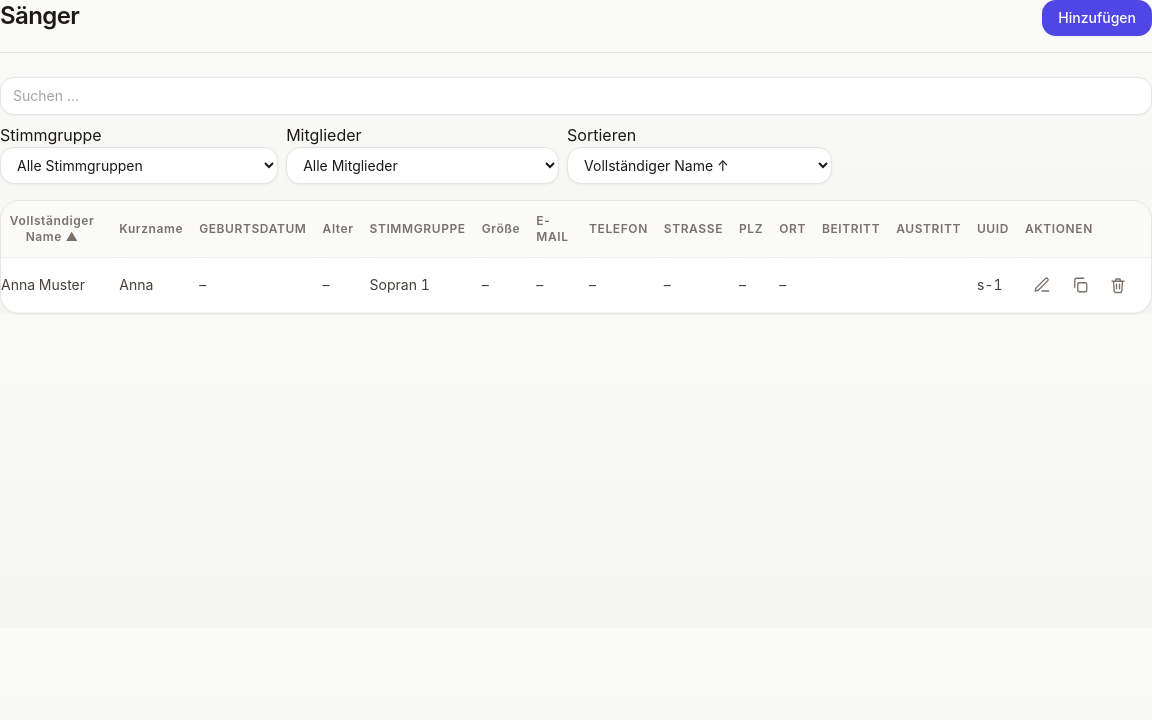
Test: SingersPage mutations › edits a singer via dialog
This screenshot has width=1152, height=720.
Expected: the text "Anna Muster" is shown, 1,258 -> 119,312
Step 1. Click the button named "Bearbeiten" → (1042, 285), box 1025,268 -> 1059,302
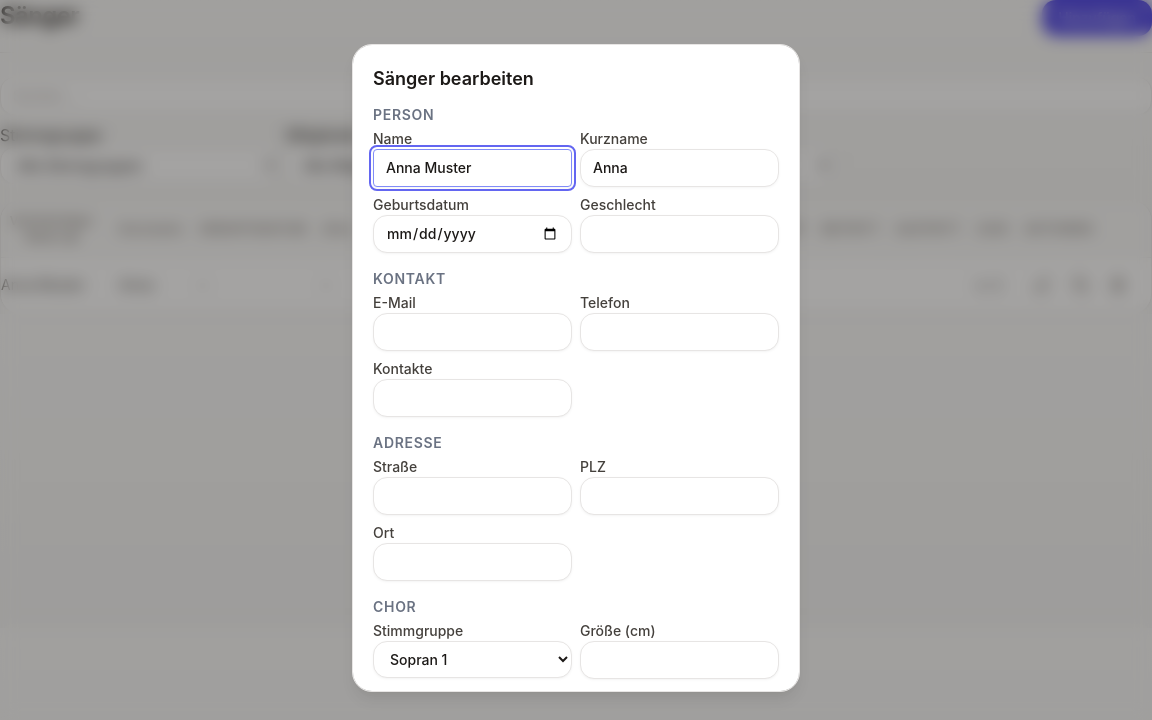
Expected: the field labelled "Name" holds "Anna Muster", 373,149 -> 572,187
Step 2. Replace the text in the field labelled "Kurzname" with "Anni" → (680, 168), box 580,149 -> 779,187
(page scrolled)
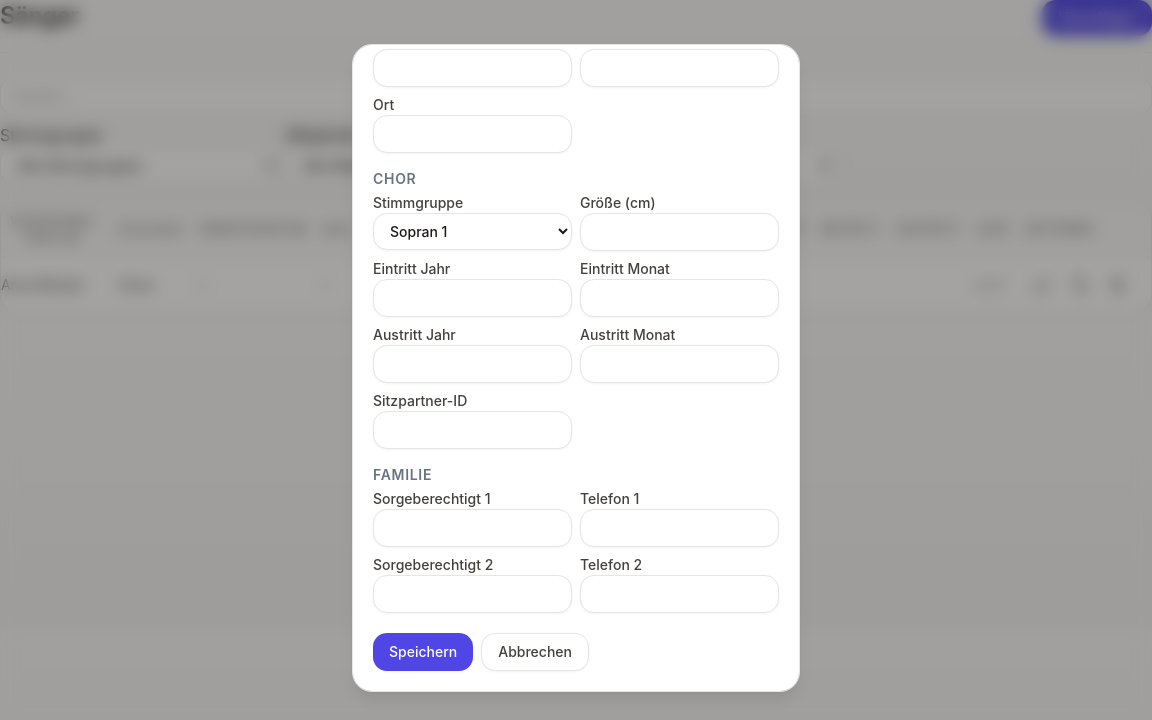
Step 3. Click the button "Speichern" → (423, 652), box 373,633 -> 473,671
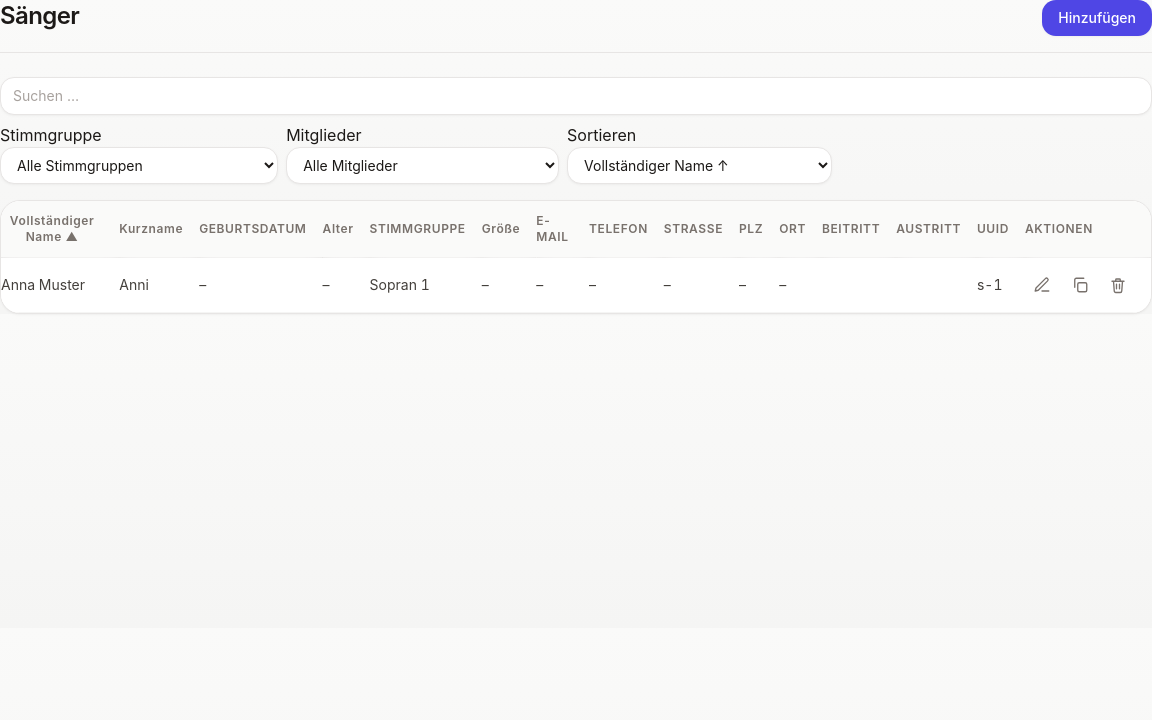
Expected: the text "Anni" is shown, 119,258 -> 199,312
